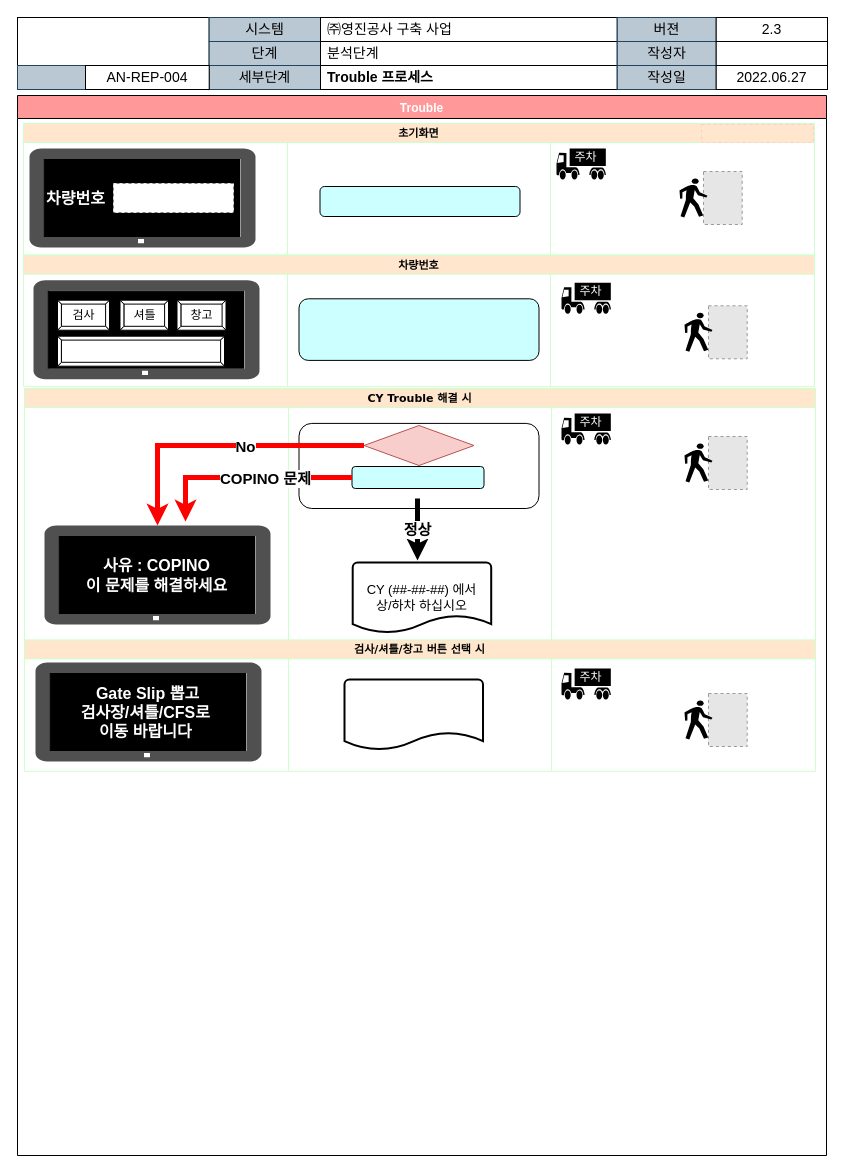
Some shapes in this 845 by 1173 pixel diagram are drawn without their labels. Grey dashed boxes stand in for pictures. Here are the shapes that lost their labels. From the top down, the centre of each, then its label:
At [112,41]: "Process 정의서".
At [771,53]: "박철규".
At [51,77]: "문서번호".
At [757,133]: "Trouble Area".
At [419,201]: "ATM 화면에 차량 번호 입력".
At [418,329]: "트럭 기사가 업무를 선택하는 기능 제공".
At [140,350]: "CY Trouble 해결".
At [418,445]: "차량번호 미 인식".
At [417,477]: "Copino 체크 프로세스".
At [413,714]: "검사장/셔틀/창고로 이동 바랍니다".
